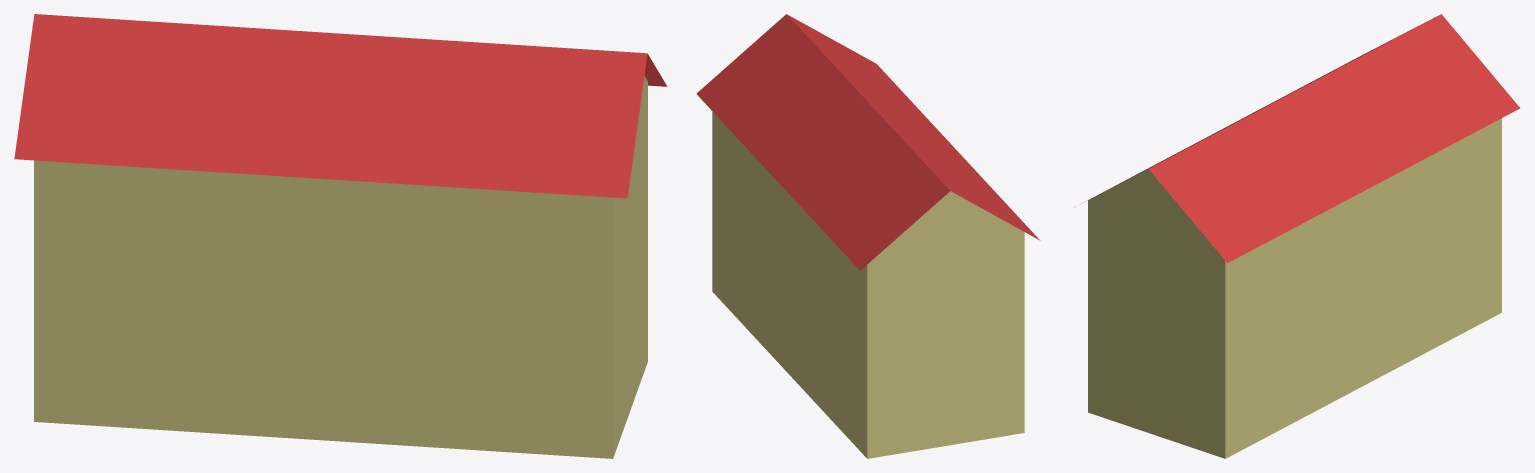
3 views of the same model, side by side, from view 1: azimuth 30°, elevation 25°; view 2: azimuth 150°, elevation 25°; view 3: azimuth 270°, elevation 25° (orthographic). The views are drawn at different scales.
Parts seen in each view (by area): view 1: group_5, group_3, group_4; view 2: group_5, group_3, group_4; view 3: group_5, group_3, group_4.
Part boxes in pixels (x1,y1,x2,y2): group_5: (34, 76, 647, 458); group_3: (14, 14, 667, 198); group_4: (524, 52, 647, 197); group_5: (712, 111, 1024, 458); group_3: (712, 14, 1040, 255); group_4: (696, 14, 949, 270); group_5: (1088, 118, 1501, 458); group_3: (1091, 17, 1501, 246); group_4: (1074, 14, 1520, 262).
Bounding box in the file's own units: 28.3 × 25.89 × 17.17.
